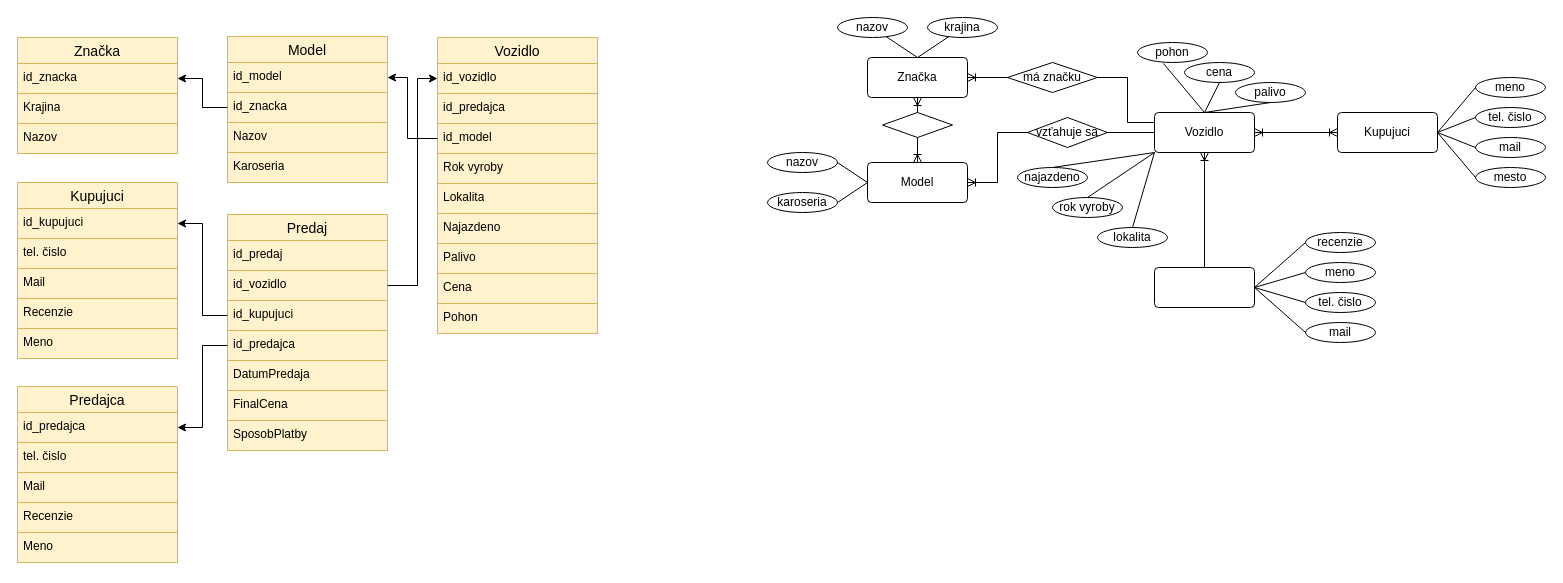
Some shapes in this 1563 by 583 pixel diagram are drawn without their labels. Here are the shapes that lost their labels. From the top down, the centre of each, then its label:
(917,125): patrí do
(1204,287): Preda jca
